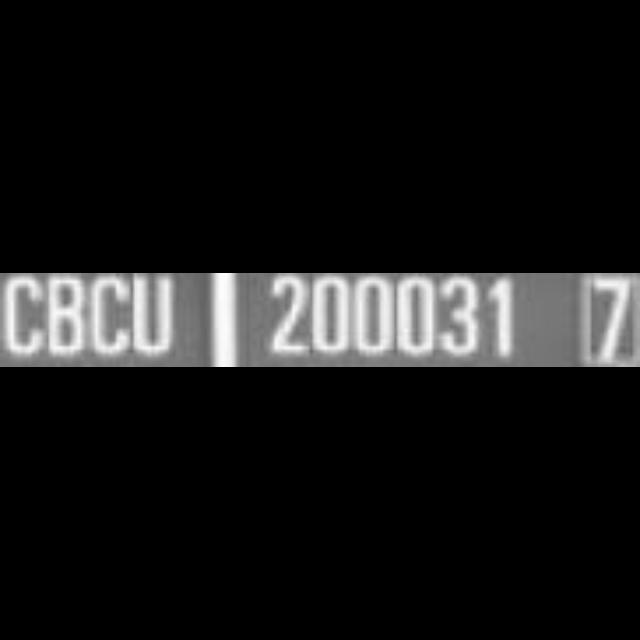0: (352, 273, 396, 363), (310, 273, 352, 359), (396, 274, 436, 360)
1: (486, 273, 524, 361)
2: (267, 274, 313, 360)
3: (436, 273, 486, 363)
7: (586, 273, 640, 367)
b: (46, 273, 88, 363)
c: (0, 273, 48, 367), (86, 273, 132, 365)
u: (134, 274, 178, 364)
